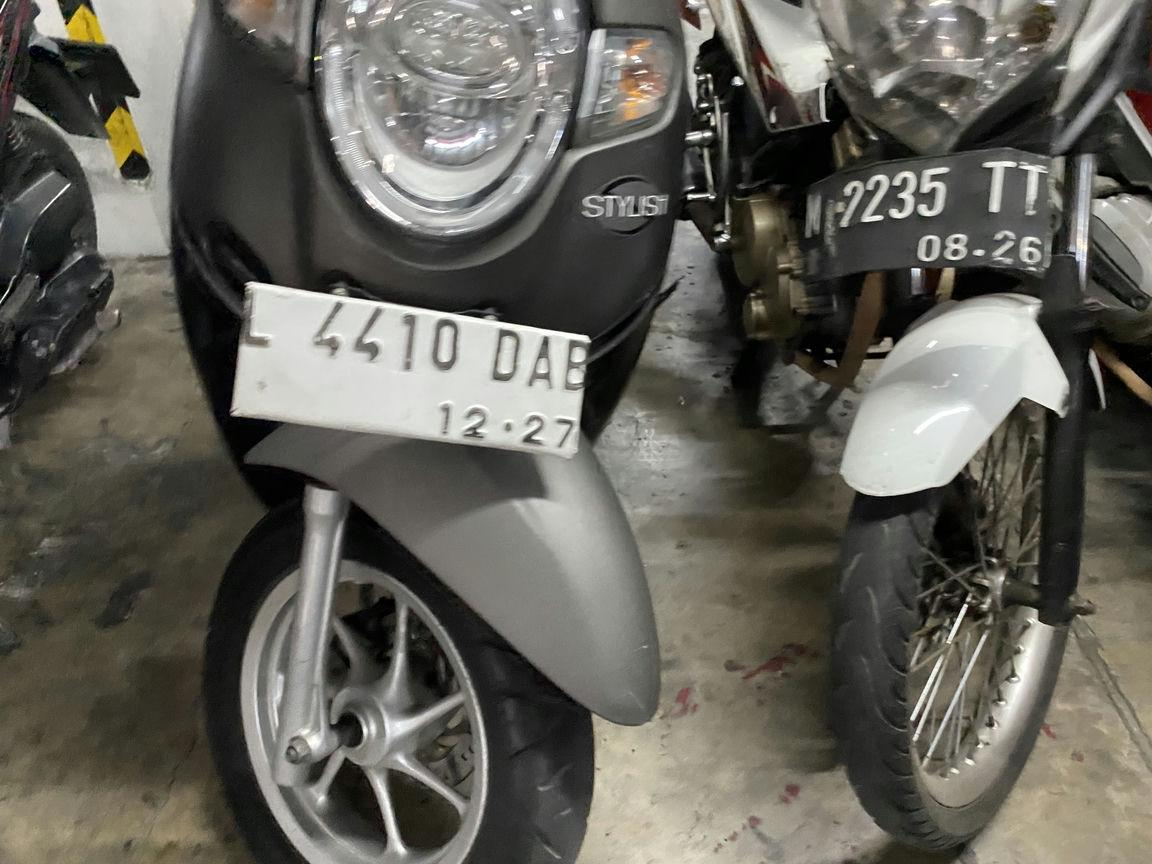plat: (233, 281, 590, 459), (801, 148, 1051, 281)
